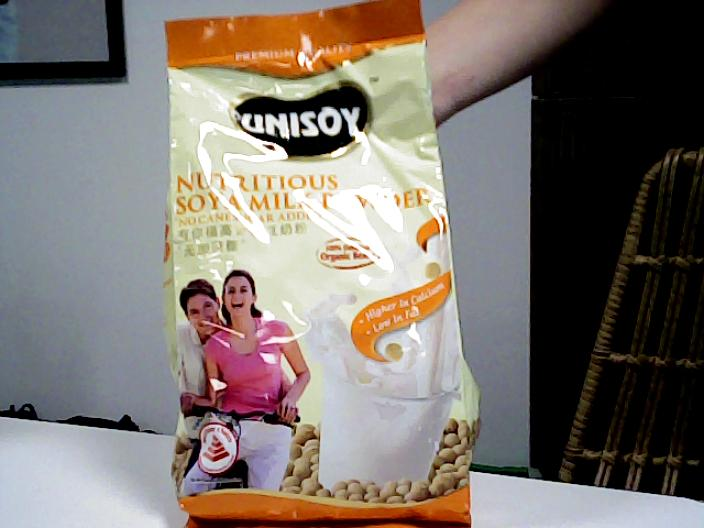Adult_Milk_500-599g_NonHalal_Healthy: (164, 5, 479, 528)
